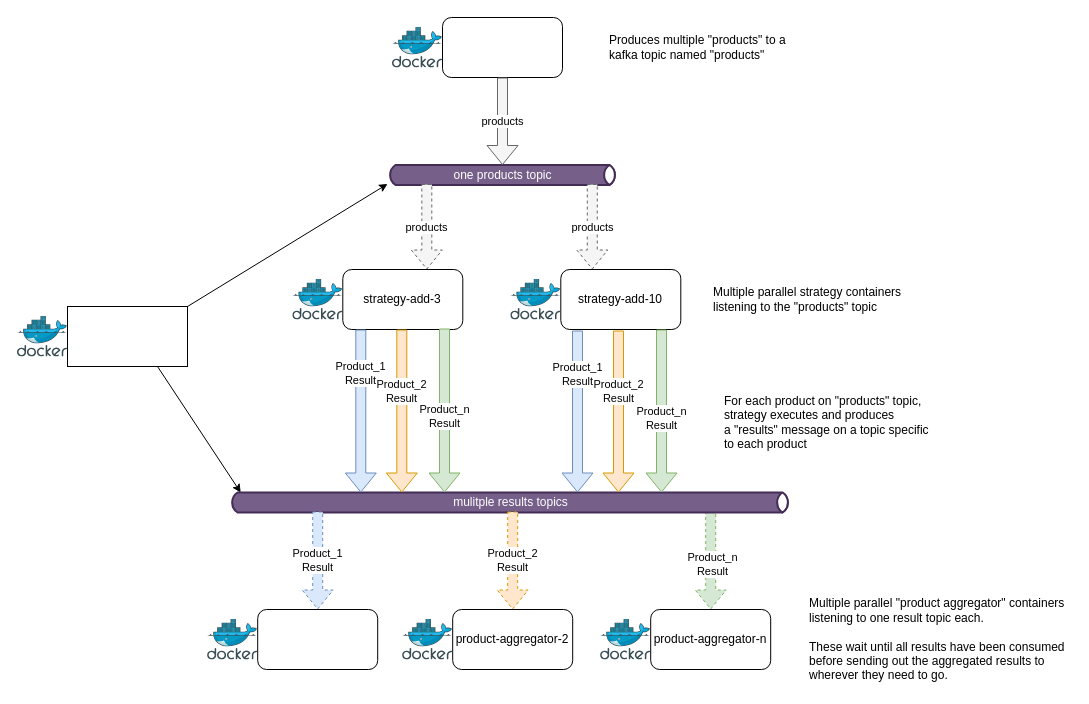
Some shapes in this 1089 by 704 pixel diagram are drawn without their labels. The shapes that lost their labels are listed below. From the top down, each one's centre as x and y in pixels, then its label:
At (x=502, y=47): "product-producer".
At (x=127, y=336): "Kafka".
At (x=317, y=639): "product-aggregator-1".
